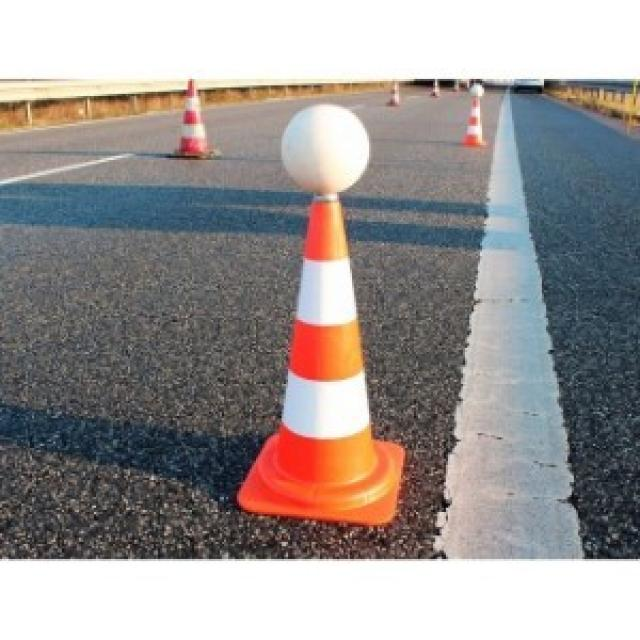cone: (233, 190, 403, 523), (164, 72, 220, 158), (459, 98, 491, 149), (384, 79, 404, 109)
